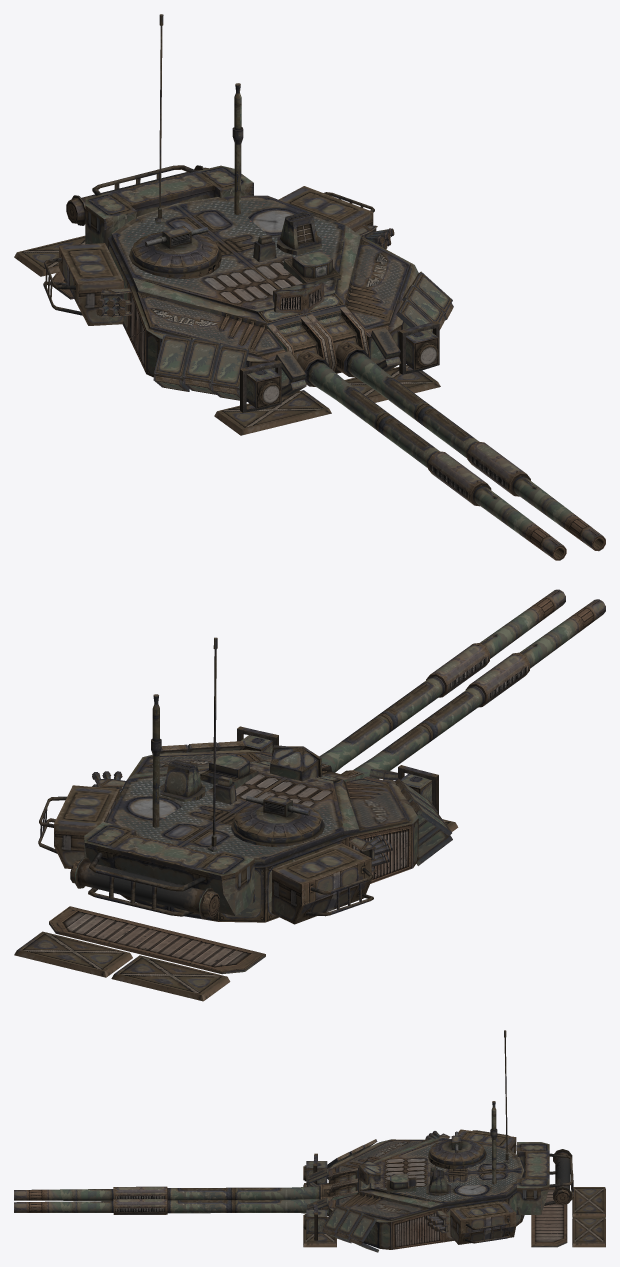
File: battle_turret_variation.fbx
3 views of the same model, one above another, from view 1: azimuth 30°, elevation 25°; view 2: azimuth 150°, elevation 25°; view 3: azimuth 270°, elevation 25° (orthographic). The views are drawn at different scales.
Visible parts, largest first — view 1: polySurface12952, polySurface12954_DUP, polySurface12955_DUP, polySurface12953_DUP; view 2: polySurface12952, polySurface12953_DUP, polySurface12955_DUP, polySurface12954_DUP; view 3: polySurface12952, polySurface12953_DUP, polySurface12954_DUP, polySurface12955_DUP.
Boxes of the visible parts, left/top/right/bottom form: polySurface12952: left=43, top=14, right=453, bottom=412; polySurface12954_DUP: left=297, top=340, right=479, bottom=467; polySurface12955_DUP: left=428, top=441, right=605, bottom=560; polySurface12953_DUP: left=14, top=235, right=440, bottom=435; polySurface12952: left=38, top=637, right=452, bottom=924; polySurface12953_DUP: left=14, top=819, right=458, bottom=1001; polySurface12955_DUP: left=426, top=589, right=605, bottom=707; polySurface12954_DUP: left=319, top=676, right=484, bottom=778; polySurface12952: left=303, top=1030, right=573, bottom=1252; polySurface12953_DUP: left=303, top=1183, right=605, bottom=1247; polySurface12954_DUP: left=167, top=1184, right=332, bottom=1215; polySurface12955_DUP: left=14, top=1186, right=167, bottom=1214.
Bounding box in the file's own units: 169 × 143 × 428.
1 material, 1 textured.
